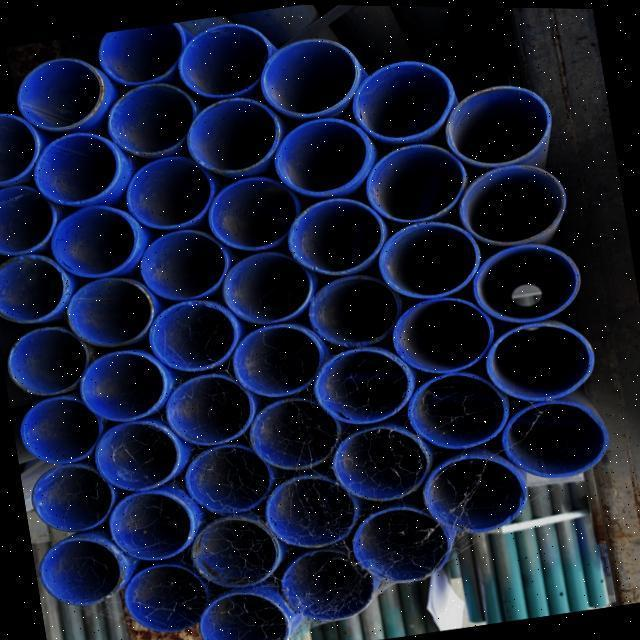pipe: (483, 318, 599, 407), (420, 454, 527, 545), (499, 394, 604, 482), (351, 506, 455, 594), (258, 35, 360, 124), (474, 242, 584, 323), (376, 215, 481, 299), (459, 163, 568, 243), (447, 81, 550, 164), (350, 57, 454, 138), (369, 143, 468, 225), (272, 115, 368, 198), (410, 374, 512, 452), (393, 295, 493, 374), (314, 348, 412, 428), (262, 475, 358, 555), (331, 427, 432, 503), (275, 545, 372, 623), (15, 53, 105, 137), (187, 97, 280, 178), (290, 194, 383, 274), (187, 513, 280, 591), (175, 19, 267, 97), (208, 178, 301, 255), (248, 395, 343, 470), (52, 206, 142, 285), (308, 274, 401, 350), (163, 375, 257, 450), (148, 298, 242, 373), (125, 156, 215, 234), (32, 129, 122, 207), (221, 248, 312, 325), (139, 229, 230, 305), (87, 415, 178, 491), (108, 81, 196, 159), (103, 484, 193, 560), (64, 275, 155, 350), (231, 319, 318, 397), (121, 559, 208, 634), (183, 440, 274, 511), (95, 21, 189, 88), (80, 345, 165, 419), (17, 392, 103, 463), (37, 536, 122, 607), (4, 327, 89, 398), (27, 464, 114, 532), (0, 254, 71, 324), (195, 590, 289, 640), (0, 180, 59, 256), (0, 112, 42, 186)
